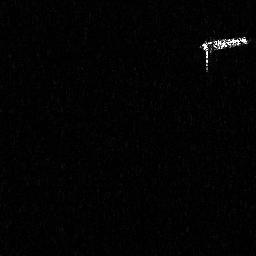ship: (198, 35, 248, 73)
